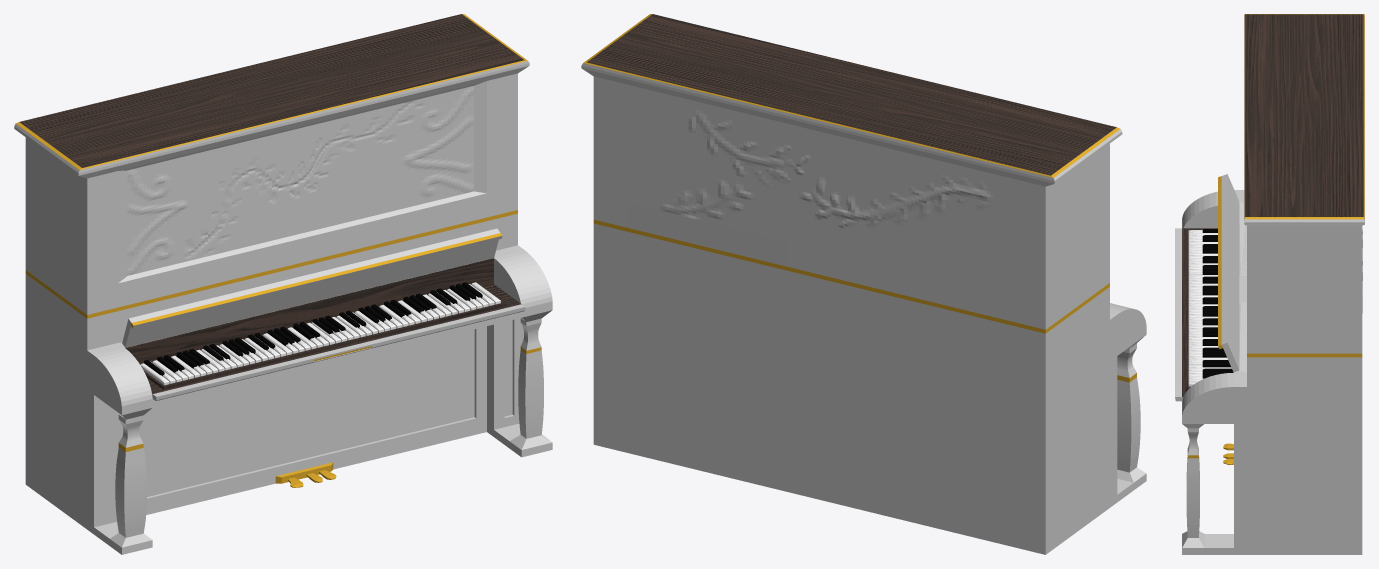
File: piano_droit.glb
The picture shows the model from 3 angles, left to right: view 1: azimuth 30°, elevation 25°; view 2: azimuth 150°, elevation 25°; view 3: azimuth 270°, elevation 25°; orthographic projection. The views are drawn at different scales.
Parts seen in each view (by area): view 1: piano; view 2: piano; view 3: piano.
Part boxes in pixels (box(x1,y1,x2,y2)): piano: box(14, 14, 552, 554); piano: box(581, 14, 1146, 554); piano: box(1175, 14, 1364, 554).
Size of what is drawn, in the model's own units: 8.48 by 6.53 by 3.3.
Materials: 94 (1 with a texture image).
